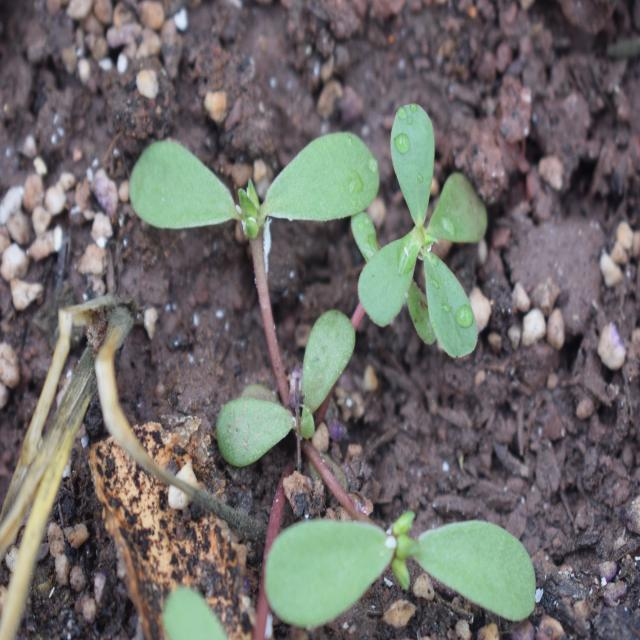purslane: (111, 98, 555, 610)
